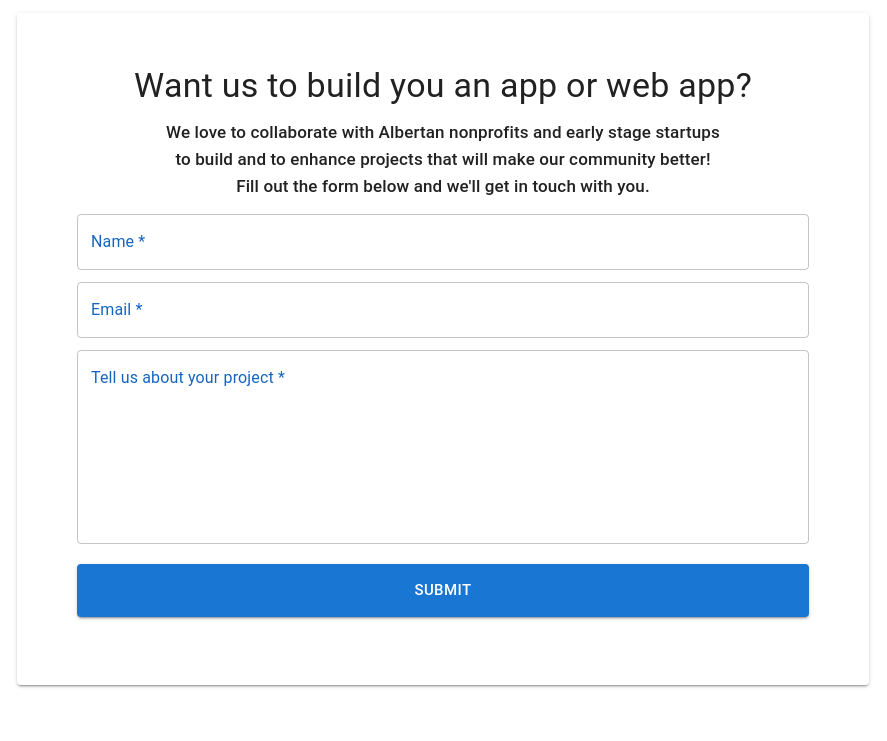
Check if email field gives error for bad input
Type "some@email" into the field labelled "Email *" at [443, 310], box [77, 282, 809, 338]
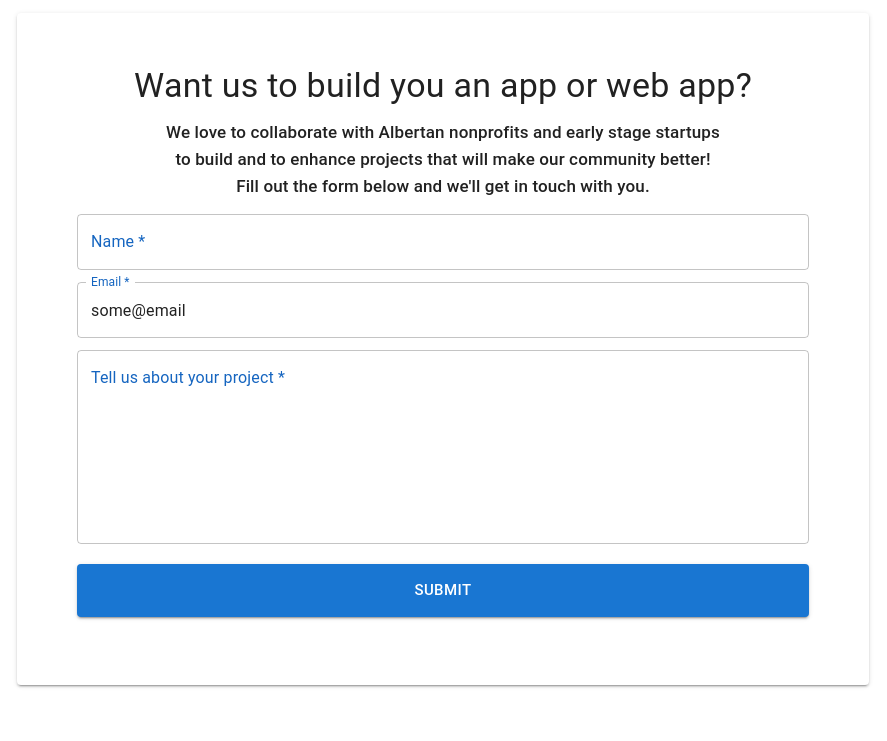
Click the button "Submit" at [443, 591], box [77, 564, 809, 617]
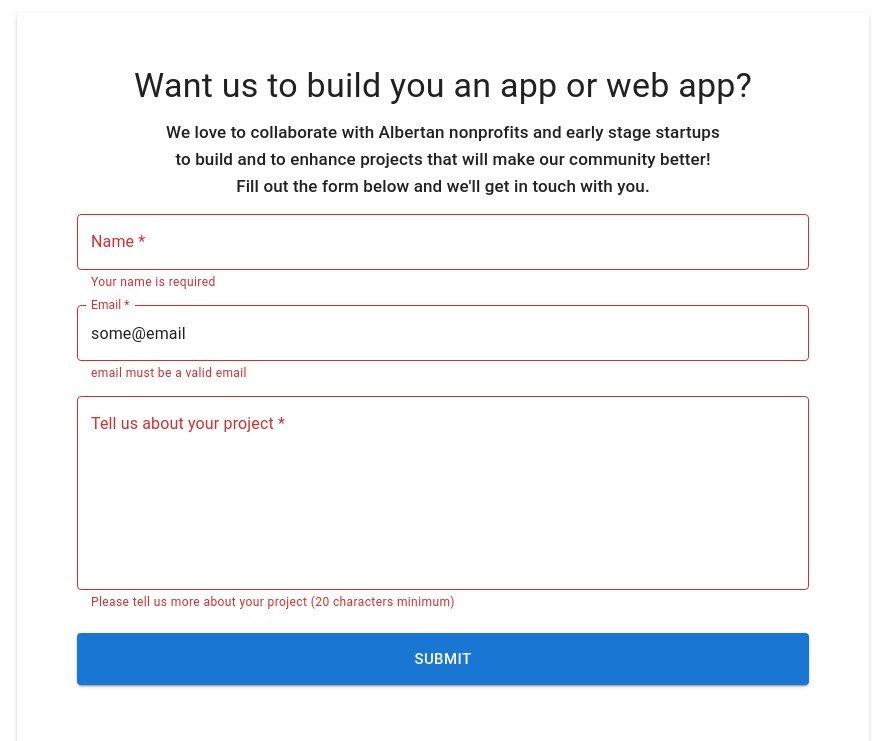
expect the text "email must be a valid email" is shown: met, box [91, 366, 247, 380]
